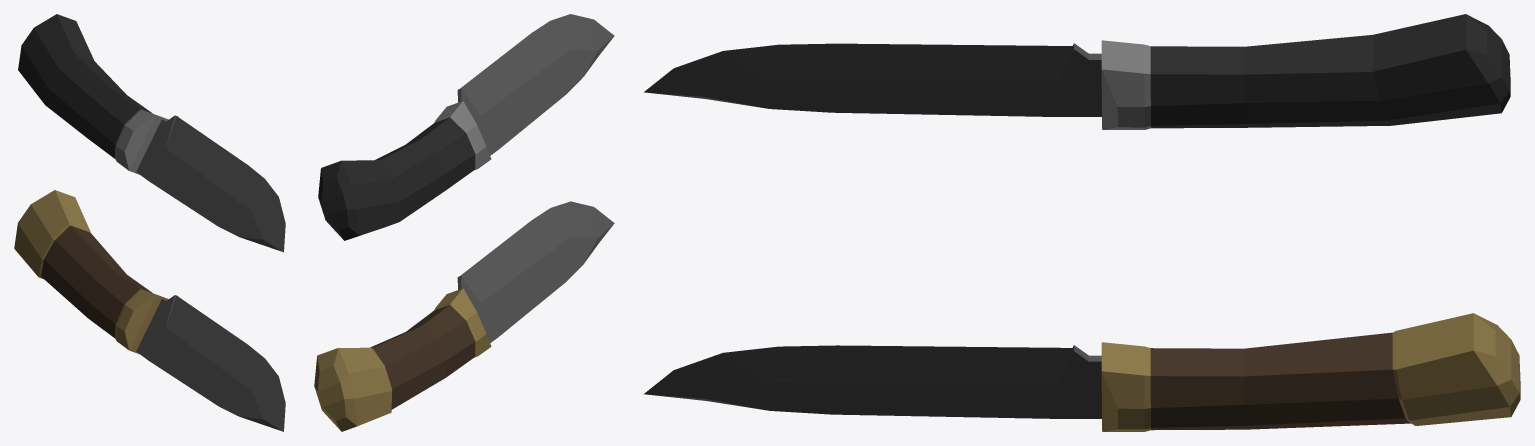
3 renders of one model, left to right at view 1: azimuth 30°, elevation 25°; view 2: azimuth 150°, elevation 25°; view 3: azimuth 270°, elevation 25°, orthographic. The views are drawn at different scales.
Parts seen in each view (by area): view 1: Bars A-2607 95Kh18 knife, Bars A-2607 Damascus knife; view 2: Bars A-2607 95Kh18 knife, Bars A-2607 Damascus knife; view 3: Bars A-2607 95Kh18 knife, Bars A-2607 Damascus knife.
Part boxes in pixels (x1=…): Bars A-2607 95Kh18 knife: x1=14, y1=190, x2=285, y2=431; Bars A-2607 Damascus knife: x1=18, y1=14, x2=285, y2=252; Bars A-2607 95Kh18 knife: x1=314, y1=201, x2=614, y2=431; Bars A-2607 Damascus knife: x1=318, y1=14, x2=614, y2=240; Bars A-2607 95Kh18 knife: x1=644, y1=313, x2=1520, y2=431; Bars A-2607 Damascus knife: x1=644, y1=14, x2=1510, y2=129.
Size of the model in its own units: 0.3298 by 1.44 by 2.63.
2 materials, 2 textured.
